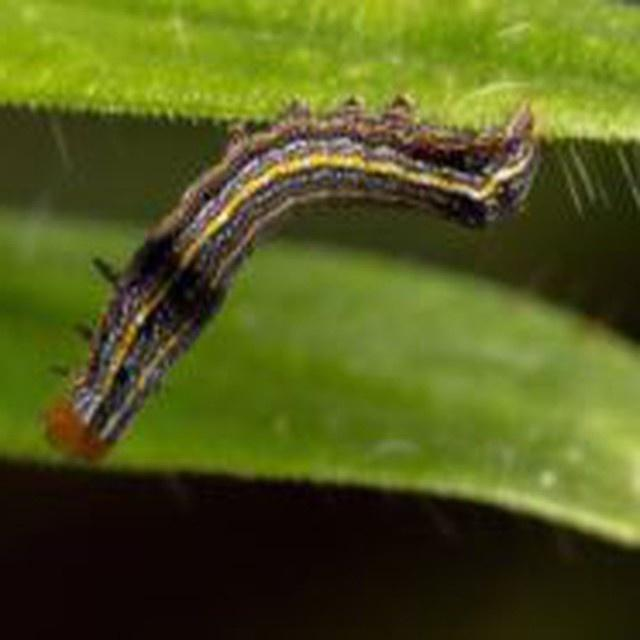gusano_cogollero: (35, 90, 542, 475)
